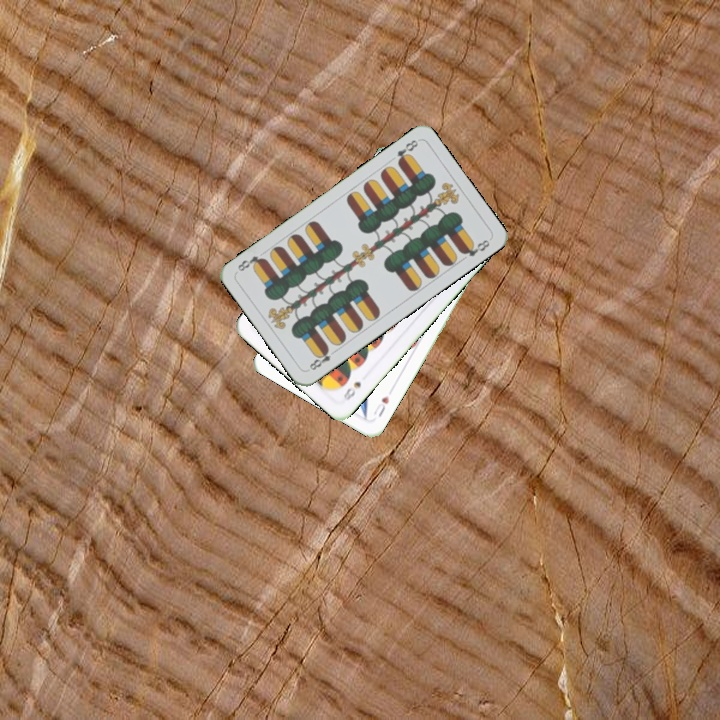E8: (305, 344, 340, 373), (392, 135, 421, 167)
HU: (369, 392, 392, 419)
S8: (339, 377, 364, 406)
